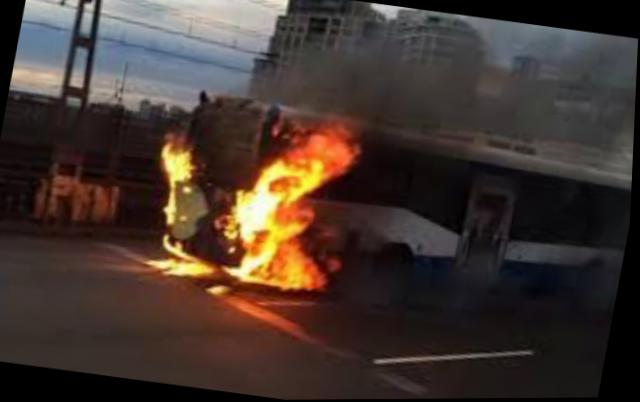fire: (126, 92, 371, 303)
